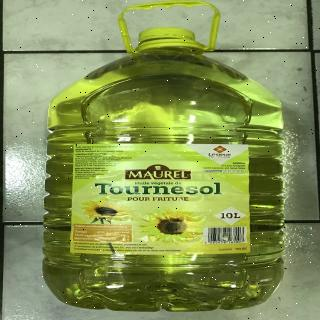Plastic-bottle: (36, 2, 290, 314)
